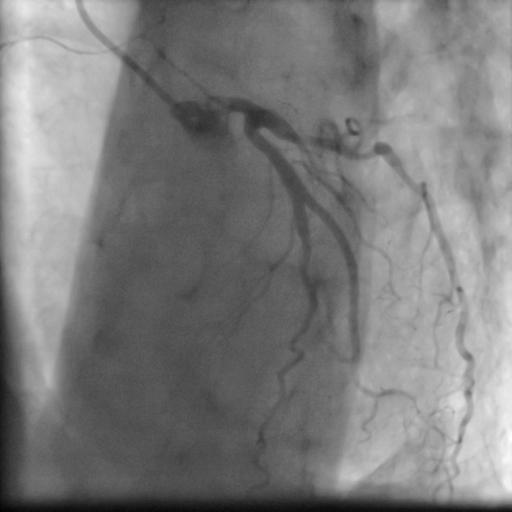Stenosis: (347, 137, 378, 166)
